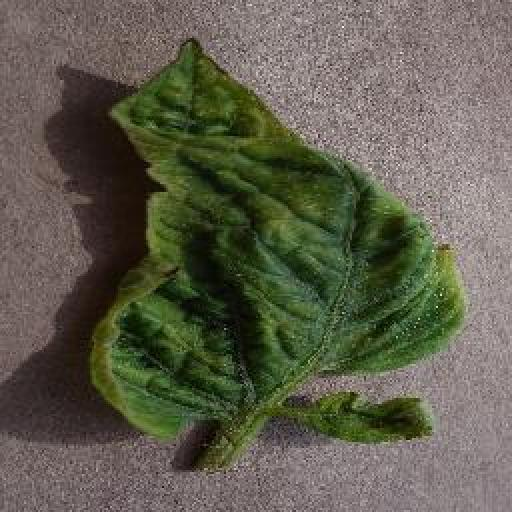disease_tomato: (93, 38, 464, 438)
